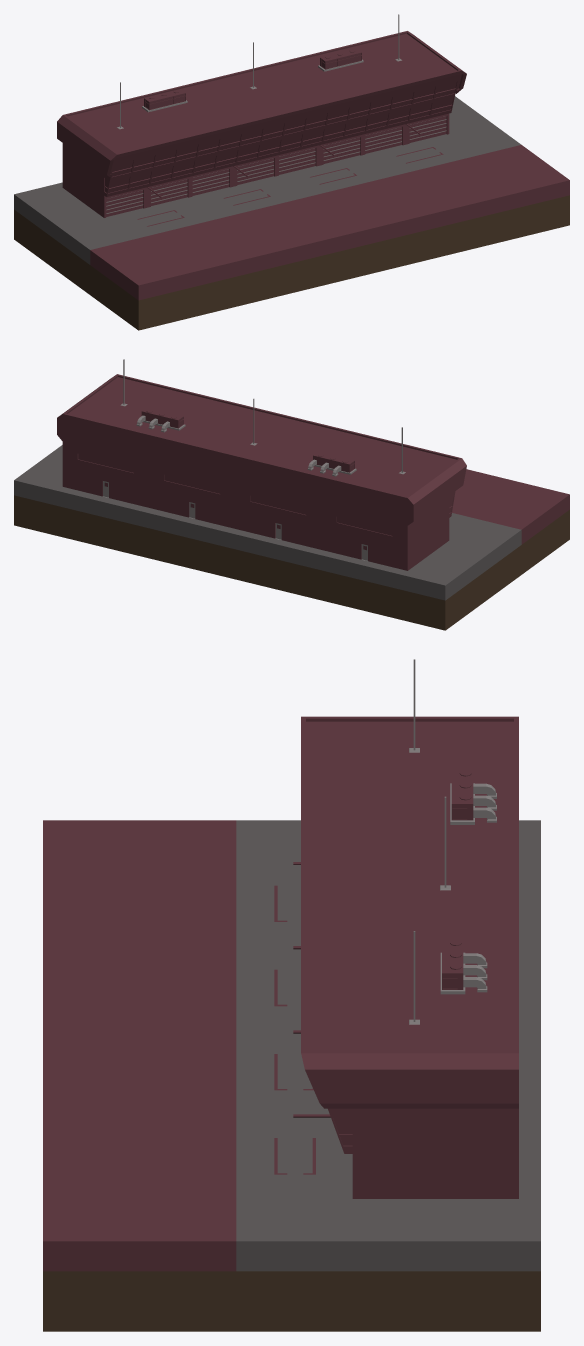
Rendered from racing-tile-race-track-single-pit-lane.glb.
The picture shows the model from 3 angles, top to bottom: view 1: azimuth 30°, elevation 25°; view 2: azimuth 150°, elevation 25°; view 3: azimuth 270°, elevation 25°; orthographic projection. The views are drawn at different scales.
Parts seen in each view (by area): view 1: tile-race-track-single-pit-lane; view 2: tile-race-track-single-pit-lane; view 3: tile-race-track-single-pit-lane.
Part boxes in pixels (x1=…): tile-race-track-single-pit-lane: x1=14, y1=14, x2=569, y2=330; tile-race-track-single-pit-lane: x1=14, y1=359, x2=569, y2=630; tile-race-track-single-pit-lane: x1=43, y1=659, x2=540, y2=1331.
Size of the model in its own units: 60 by 21.51 by 30.
